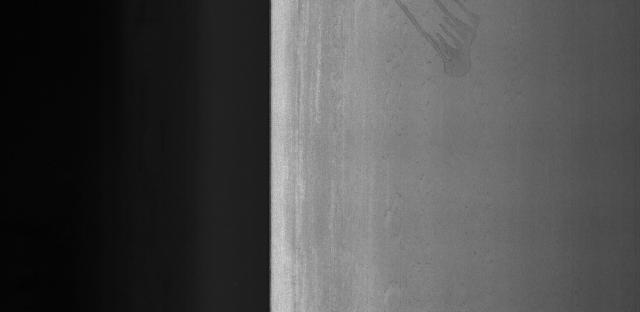water_spot: (383, 0, 501, 82)
